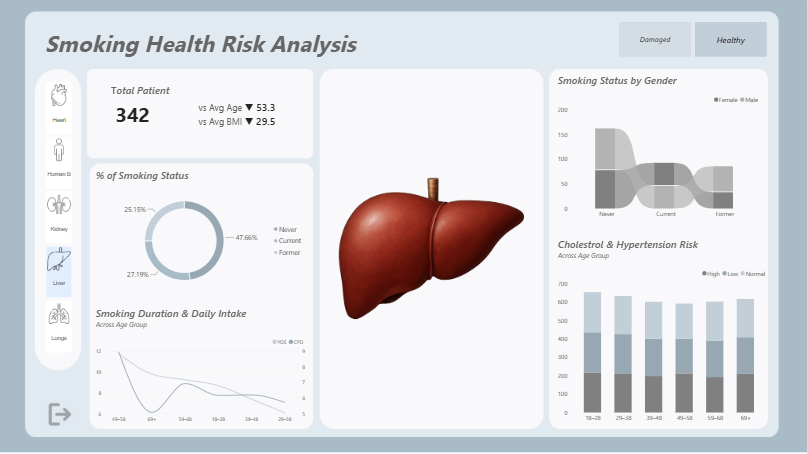

The dashboard page shown, as its layout file describes it:
{"tool":"powerbi","page":{"name":"Smoking Health Risk Analysis","canvas":[1920,1080],"ordinal":0},"visuals":[{"type":"cardVisual","fields":{"Data":["CountNonNull(health_dataset.Patient_ID)"]},"box":[228.6,178.6,497.6,185.7],"z":0},{"type":"textbox","box":[264.3,178.6,283.3,114.3],"z":1000},{"type":"advancedSlicerVisual","fields":{"Values":["condition.Organ_Condition"]},"box":[1473.8,52.4,352.4,83.3],"z":2000},{"type":"ChicletSlicer1448559807354","fields":{"Category":["Organs.Organ"],"Image":["Organs.Icon_URL"]},"box":[90.5,178.6,100,690.5],"z":3000},{"type":"image","box":[764.3,178.6,528.6,831],"z":4000},{"type":"donutChart","title":"% of Smoking Status","fields":{"Category":["health_dataset.Smoking_Status"],"Y":["CountNonNull(health_dataset.Smoking_Status)"]},"box":[211.9,385.7,531,328.6],"z":5000},{"type":"lineChart","title":"Smoking Duration & Daily Intake","fields":{"Category":["health_dataset.Age Group"],"Y":["Avg(health_dataset.Years_of_Smoking)"],"Y2":["Avg(health_dataset.Cigarettes_Per_Day)"]},"box":[211.9,714.3,531,311.9],"z":6000},{"type":"ribbonChart","title":"Smoking Status by Gender","fields":{"Category":["health_dataset.Smoking_Status"],"Series":["health_dataset.Gender"],"Y":["CountNonNull(health_dataset.Patient_ID)"]},"box":[1311.9,159.5,514.3,381],"z":6001},{"type":"columnChart","title":"Cholestrol & Hypertension Risk","fields":{"Category":["health_dataset.Age Group"],"Series":["health_dataset.BP_Risk"],"Y":["Avg(health_dataset.Cholesterol_Level)"]},"box":[1311.9,550,531,476.2],"z":6002},{"type":"textbox","box":[107.1,66.7,819,92.9],"z":6003}]}

Visuals, with their boxes in screenshot pixels (x1, y1, x2, y2), scaled from the page's 1920x1080 canvas onto the 808x454 screenshot:
cardVisual - CountNonNull(health_dataset.Patient_ID): Rect(96, 75, 306, 153)
textbox: Rect(111, 75, 230, 123)
advancedSlicerVisual - condition.Organ_Condition: Rect(620, 22, 769, 57)
ChicletSlicer1448559807354 - Organs.Organ x Organs.Icon_URL: Rect(38, 75, 80, 365)
image: Rect(322, 75, 544, 424)
"% of Smoking Status" donutChart: Rect(89, 162, 313, 300)
"Smoking Duration & Daily Intake" lineChart: Rect(89, 300, 313, 431)
"Smoking Status by Gender" ribbonChart: Rect(552, 67, 769, 227)
"Cholestrol & Hypertension Risk" columnChart: Rect(552, 231, 776, 431)
textbox: Rect(45, 28, 390, 67)
